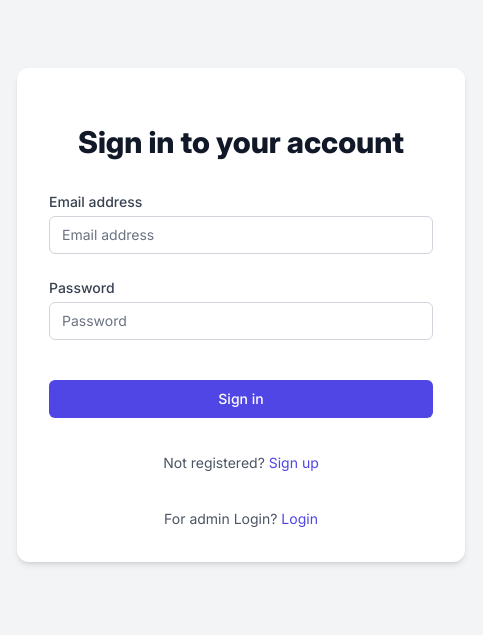
Test: Login › should show error message for login failure
The width and height of the screenshot is (483, 635).
# Fill in the login form
Type "john@example.com" into the field with placeholder "Email address" at coordinates (241, 235), box [49,216,433,254]
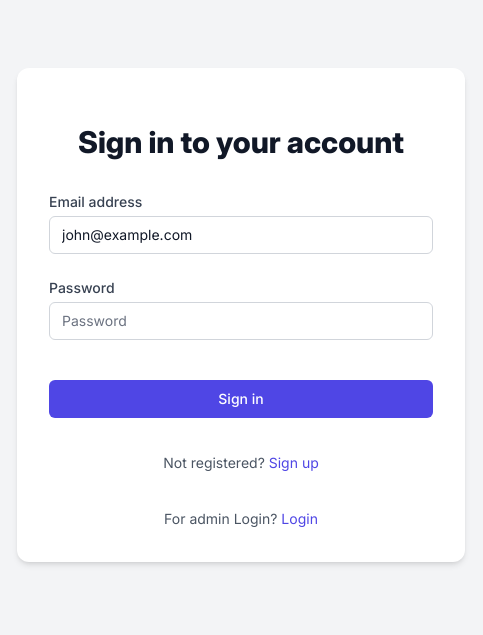
Type "Password123" into the password field with placeholder "Password" at coordinates (241, 321), box [49,302,433,340]
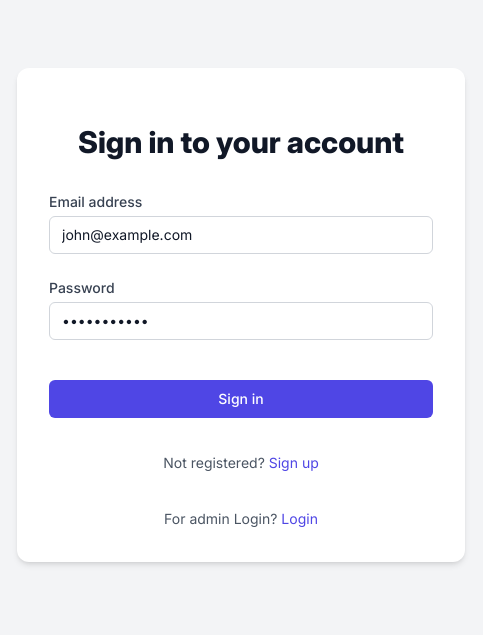
# Submit the form
Click the button "Sign in" at coordinates (241, 399), box [49,380,433,418]
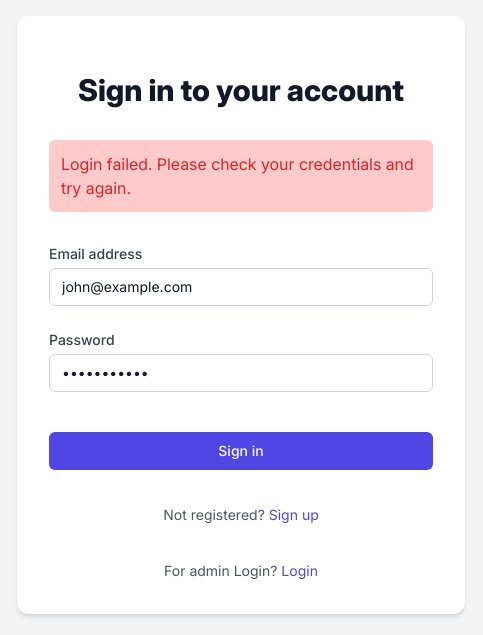
Now the text "Login failed. Please check your credentials and try again." is shown, box [49,140,433,212]
